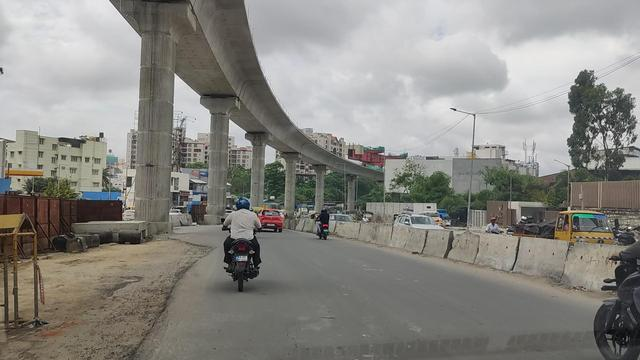LMV: (223, 202, 260, 285), (262, 209, 283, 229), (317, 209, 331, 239)
RoadDamages: (124, 283, 179, 359), (173, 232, 216, 274)
UnsurfacedRoad: (47, 248, 124, 355), (131, 241, 168, 278)
